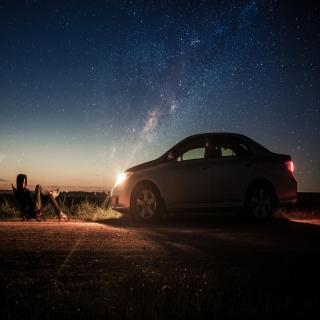Normal_vehicle: (111, 131, 299, 230)
